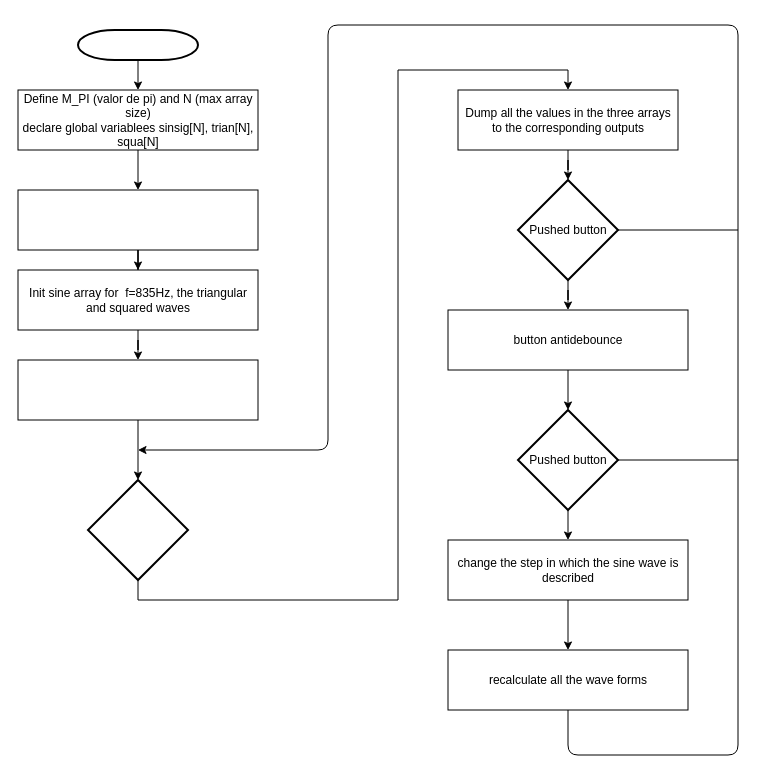
This 763x780 diagram has some shape labels left out. The shapes that lost their labels are listed below. From the top down, each one's centre as x and y in pixels, then its label:
(x=137, y=44): start
(x=137, y=219): Reset all peripherals
(x=137, y=389): Init HW (input/output, DAC)
(x=137, y=529): TRUE
